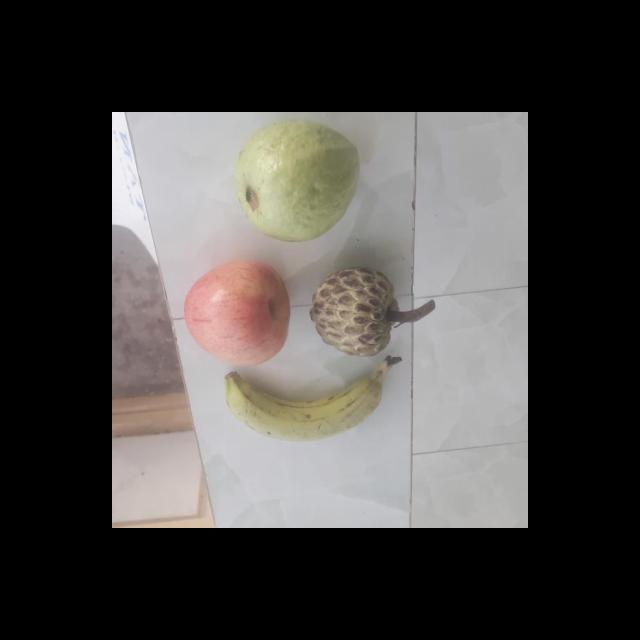Sakya fruit: (306, 266, 396, 355)
apple: (218, 365, 388, 450), (180, 262, 296, 368)
guava: (230, 123, 358, 240)
